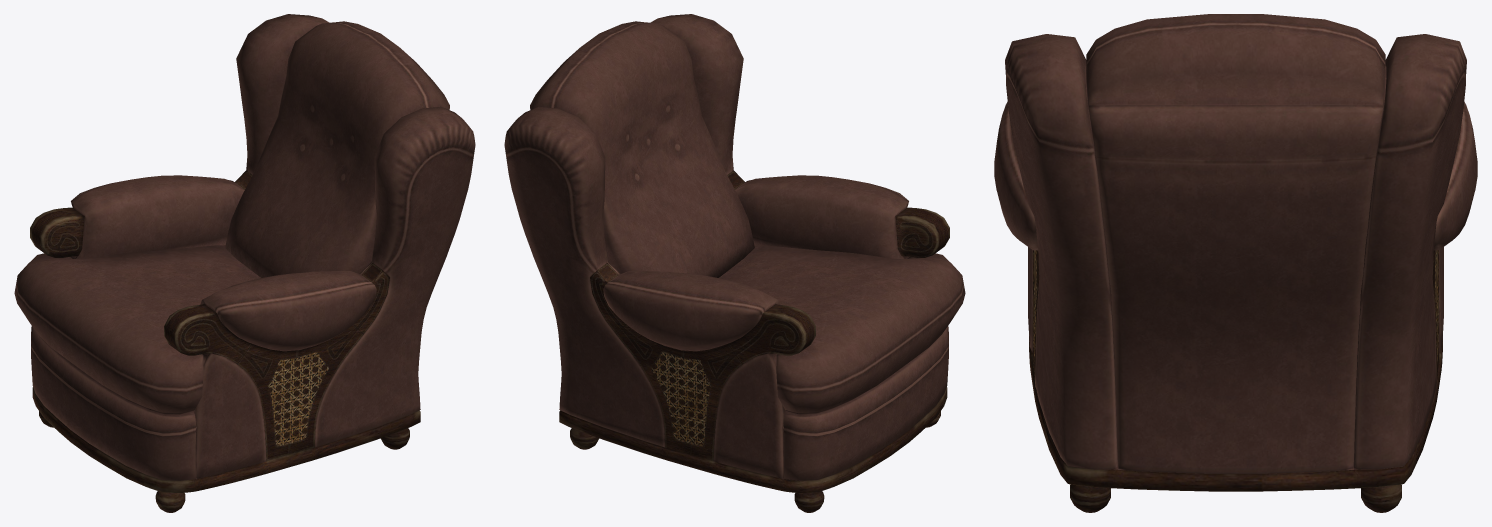
The model's file is sofachair.glb.
3 views of the same model, side by side, from view 1: azimuth 30°, elevation 25°; view 2: azimuth 150°, elevation 25°; view 3: azimuth 270°, elevation 25° (orthographic). The views are drawn at different scales.
Parts seen in each view (by area): view 1: armchair_classic_ch_models_armchair_classic_ch_models_01_tex, armchair_classic_ch_models_armchair_classic_ch_models_01_woo; view 2: armchair_classic_ch_models_armchair_classic_ch_models_01_tex, armchair_classic_ch_models_armchair_classic_ch_models_01_woo; view 3: armchair_classic_ch_models_armchair_classic_ch_models_01_tex, armchair_classic_ch_models_armchair_classic_ch_models_01_woo.
Boxes of the visible parts, x1=… form: armchair_classic_ch_models_armchair_classic_ch_models_01_tex: x1=14, y1=14, x2=475, y2=480; armchair_classic_ch_models_armchair_classic_ch_models_01_woo: x1=30, y1=170, x2=420, y2=512; armchair_classic_ch_models_armchair_classic_ch_models_01_tex: x1=504, y1=14, x2=965, y2=480; armchair_classic_ch_models_armchair_classic_ch_models_01_woo: x1=559, y1=170, x2=949, y2=512; armchair_classic_ch_models_armchair_classic_ch_models_01_tex: x1=994, y1=14, x2=1477, y2=473; armchair_classic_ch_models_armchair_classic_ch_models_01_woo: x1=1029, y1=250, x2=1442, y2=512.
Size of the model in its own units: 93.22 by 94.6 by 80.82.
2 materials, 2 textured.
